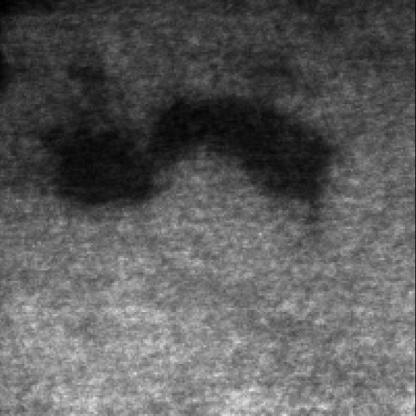patches: (131, 83, 333, 202), (29, 96, 177, 204)
